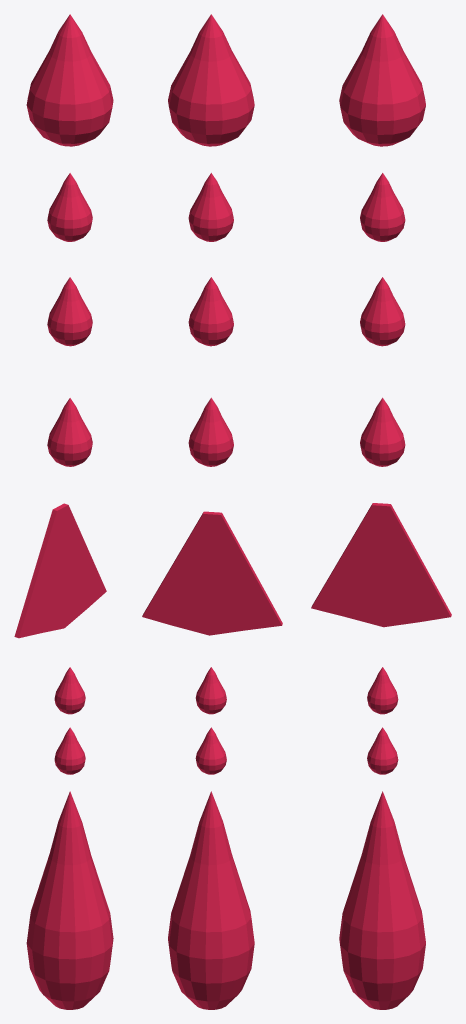
Rendered from amulet07_Mdl_Dec_Z2.fbx.
The picture shows the model from 3 angles, left to right: view 1: azimuth 30°, elevation 25°; view 2: azimuth 150°, elevation 25°; view 3: azimuth 330°, elevation 25°; orthographic projection.
Parts seen in each view (by area): view 1: Sphere.028, amulet05.001, amulet02.004, Sphere.012, Sphere.027, Sphere.022; view 2: Sphere.028, amulet02.004, amulet05.001, Sphere.012, Sphere.022, Sphere.027; view 3: Sphere.028, amulet02.004, amulet05.001, Sphere.012, Sphere.027, Sphere.022.
Boxes of the visible parts, x1,y1,x2,y2 form: Sphere.028: (26,791,113,1009); amulet05.001: (26,14,113,146); amulet02.004: (14,503,106,638); Sphere.012: (47,398,92,774); Sphere.027: (47,173,92,241); Sphere.022: (47,277,92,346); Sphere.028: (168,791,254,1009); amulet02.004: (142,511,282,635); amulet05.001: (168,14,254,146); Sphere.012: (188,397,233,774); Sphere.022: (188,277,233,346); Sphere.027: (188,173,233,241); Sphere.028: (339,791,425,1009); amulet02.004: (311,503,451,627); amulet05.001: (339,14,425,146); Sphere.012: (360,397,405,774); Sphere.027: (360,173,405,241); Sphere.022: (360,277,405,346).
Bounding box in the file's own units: 11.79 × 96.73 × 7.73.
